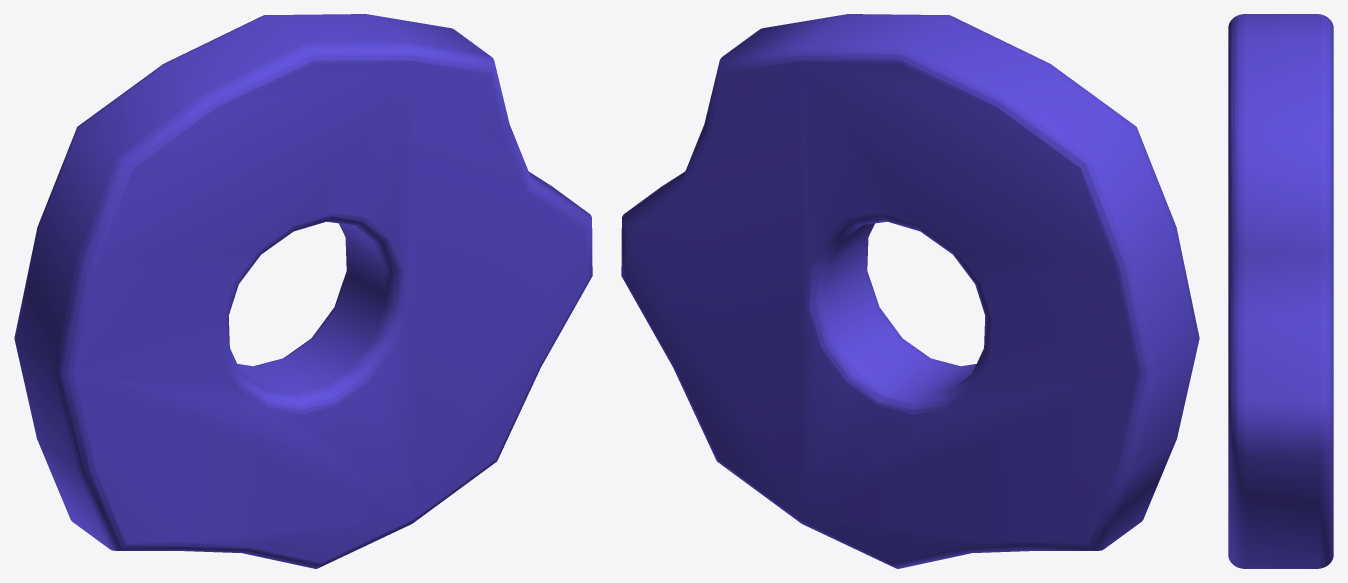
File: orbit-bloom-clay-mesh.obj
The picture shows the model from 3 angles, left to right: view 1: azimuth 30°, elevation 25°; view 2: azimuth 150°, elevation 25°; view 3: azimuth 270°, elevation 25°; orthographic projection. The views are drawn at different scales.
Parts seen in each view (by area): view 1: logo_1; view 2: logo_1; view 3: logo_1.
Boxes of the visible parts, x1,y1,x2,y2 form: logo_1: (14,14,592,568); logo_1: (621,14,1199,568); logo_1: (1228,14,1333,568).
Size of the model in its own units: 1.39 by 1.3 by 0.2467.
